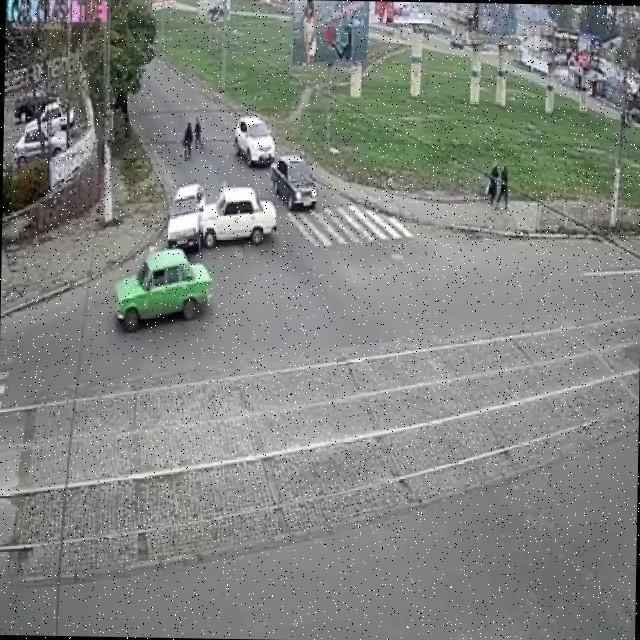accident: (161, 171, 282, 267)
